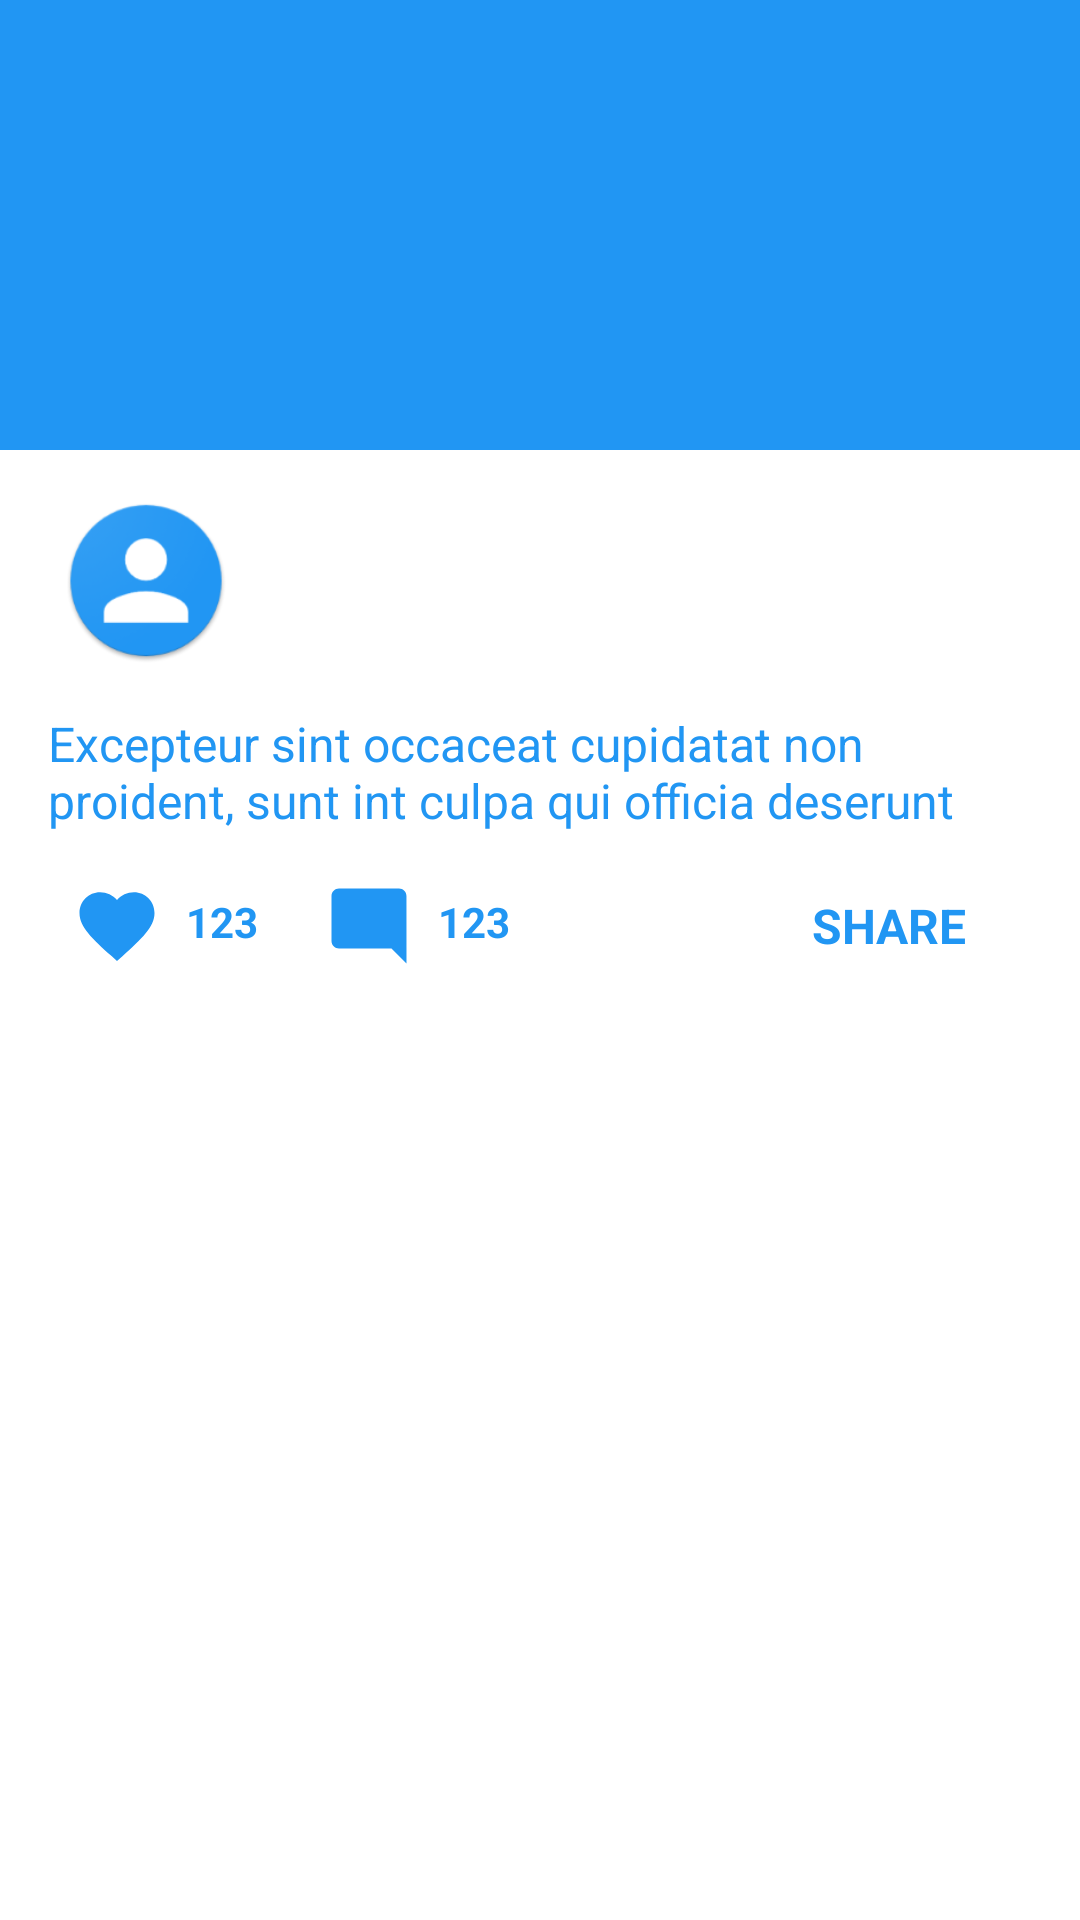

Locate icon controls on the screen. Image size 1080px x 1920px, boxes as [left=x1, top=y1, right=x2, bottom=y2].
favorite: [left=79, top=892, right=155, bottom=961]
mode comment: [left=331, top=888, right=407, bottom=964]
user: [left=70, top=504, right=223, bottom=660]
